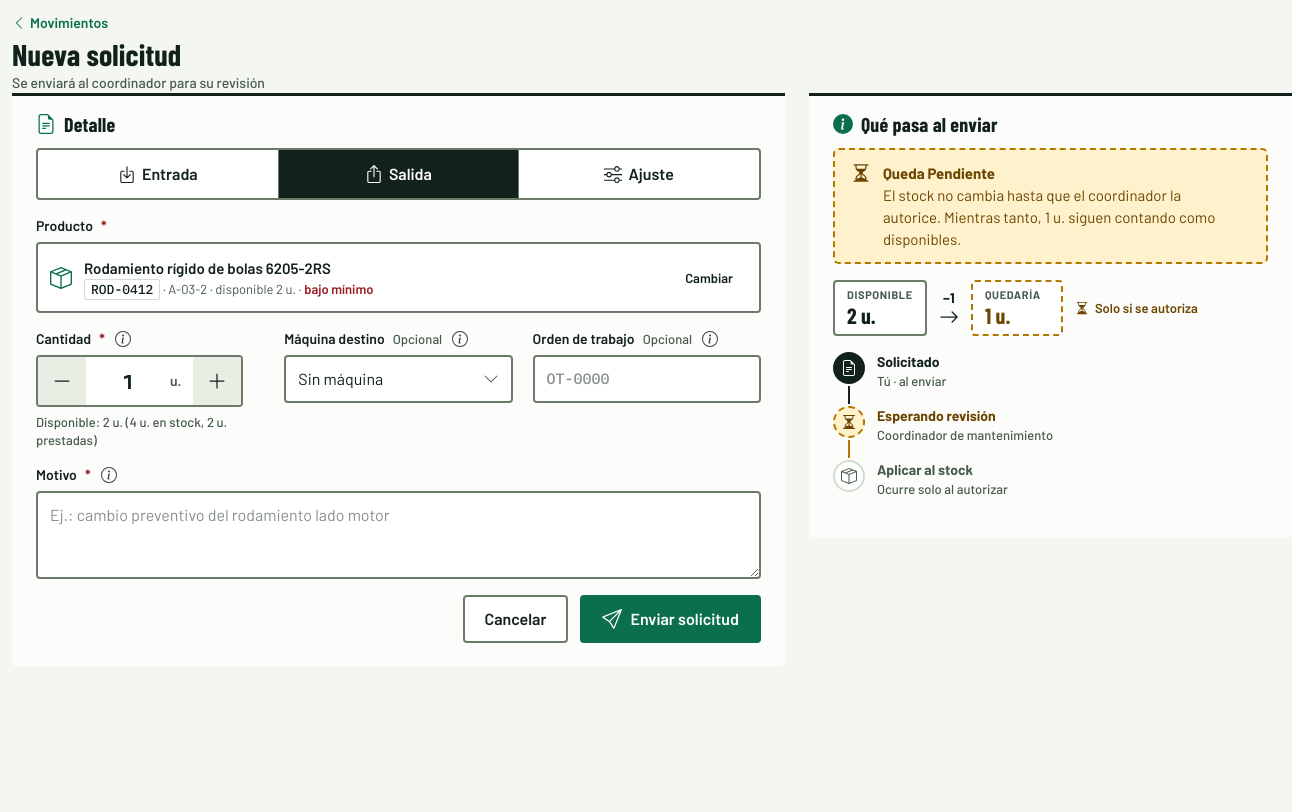
Test case: Nueva solicitud › exige el motivo en una salida y no envía sin él
Check: the text "Rodamiento rígido de bolas 6205-2RS" is shown, box [84,259,331,277]
Click the button "Enviar solicitud".
click(671, 619)  # box [580,595,761,643]
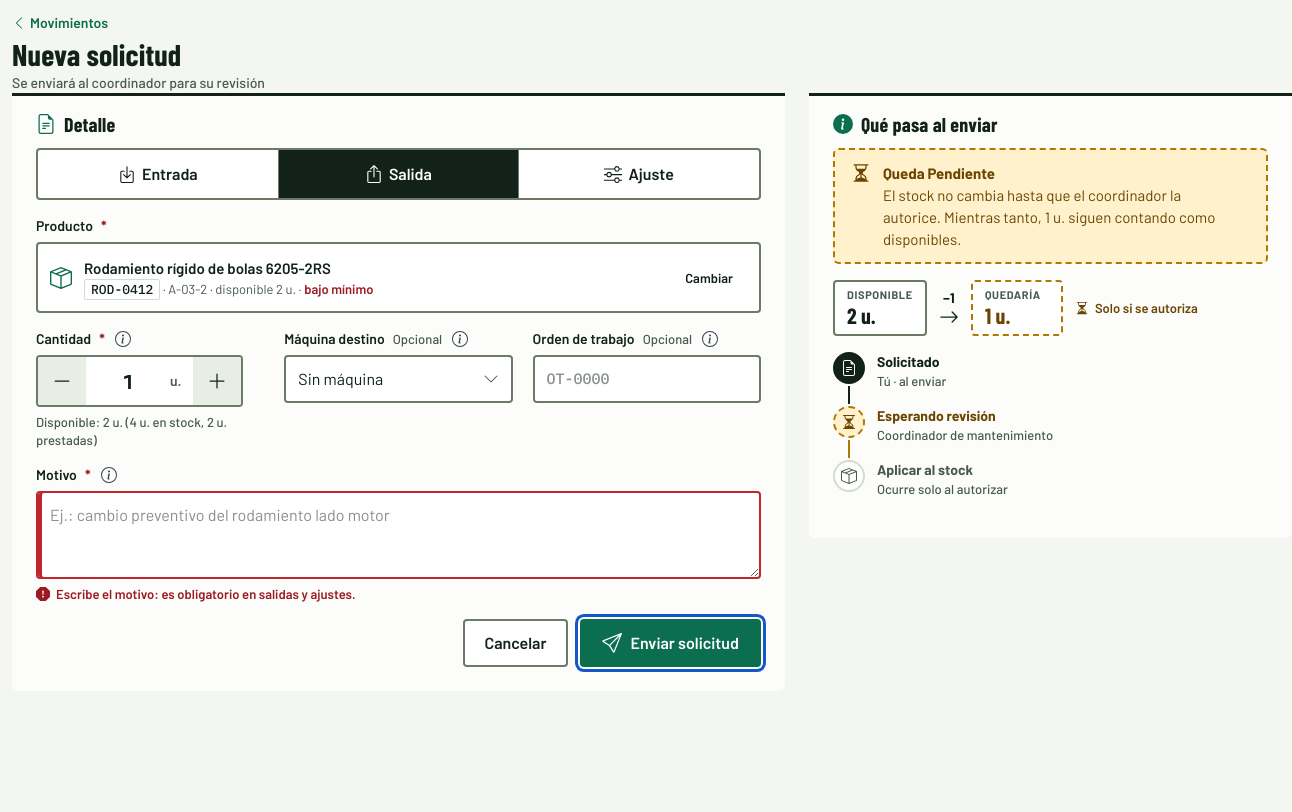
Check: the text "Escribe el motivo: es obligatorio en salidas y ajustes." is shown, box [36,586,356,602]
